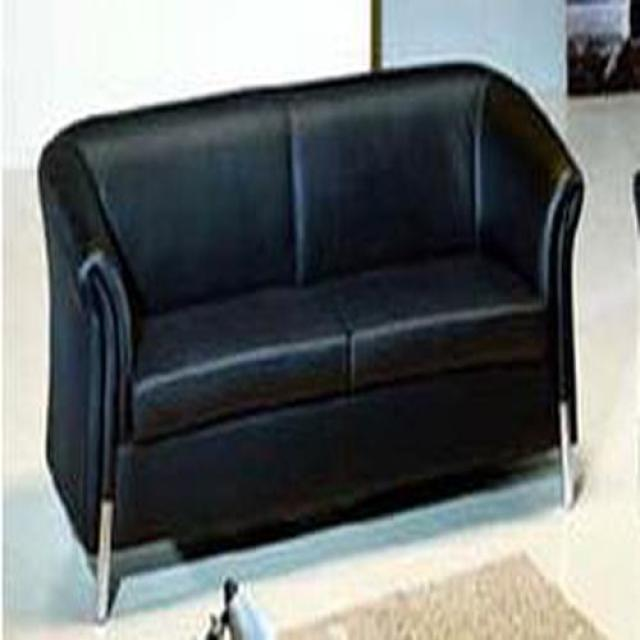sofa: (36, 60, 586, 621)
